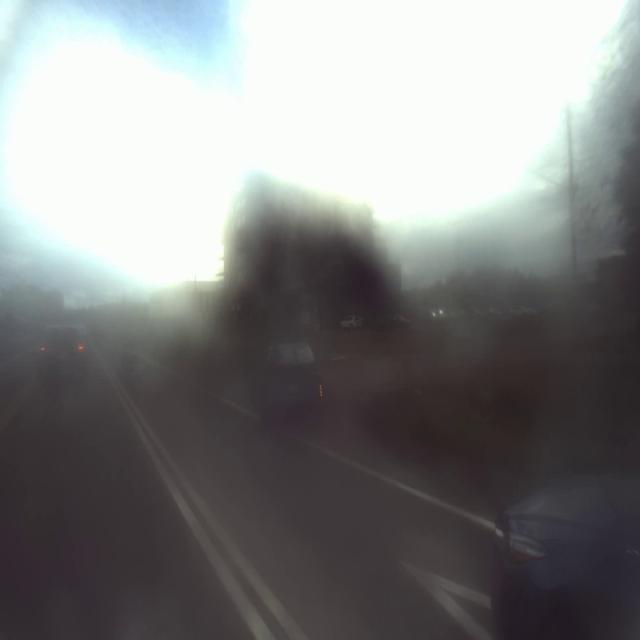car: (253, 320, 320, 418)
